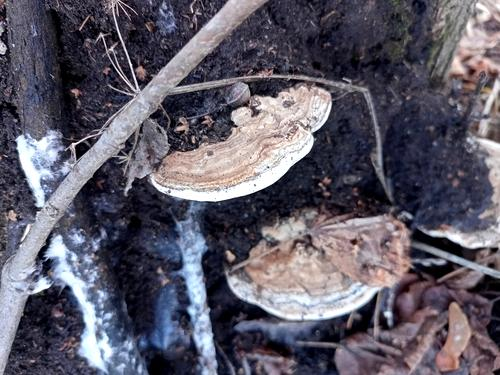Ganoderma - Fruit Body: (147, 82, 334, 202), (229, 215, 408, 324)
